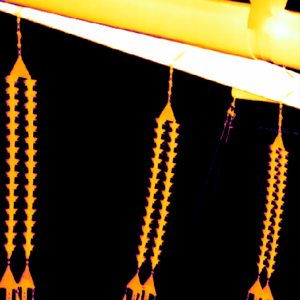insulator: (151, 120, 180, 266), (136, 118, 164, 263), (267, 148, 289, 277), (256, 148, 277, 273), (24, 77, 35, 259), (5, 73, 16, 254)
